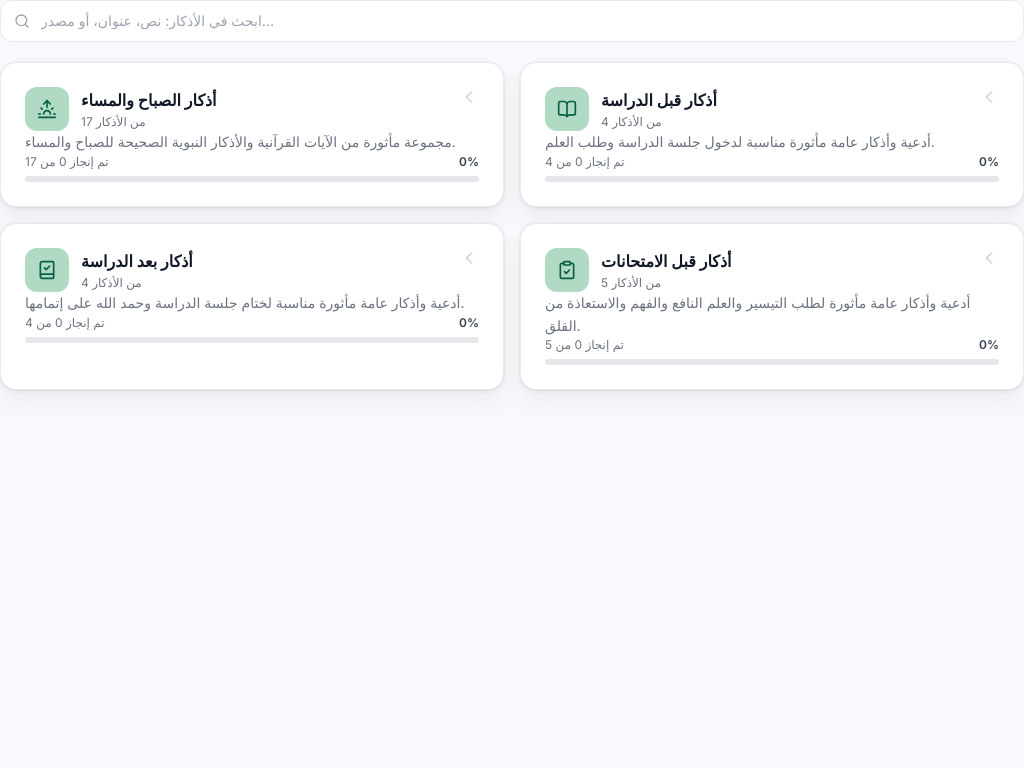
Test: AdhkarPage category view › renders every dhikr card directly without group headings (morning/evening)
Click the button "أذكار الصباح والمساء".
click(252, 134)  # box [0,62,504,207]
(page scrolled)
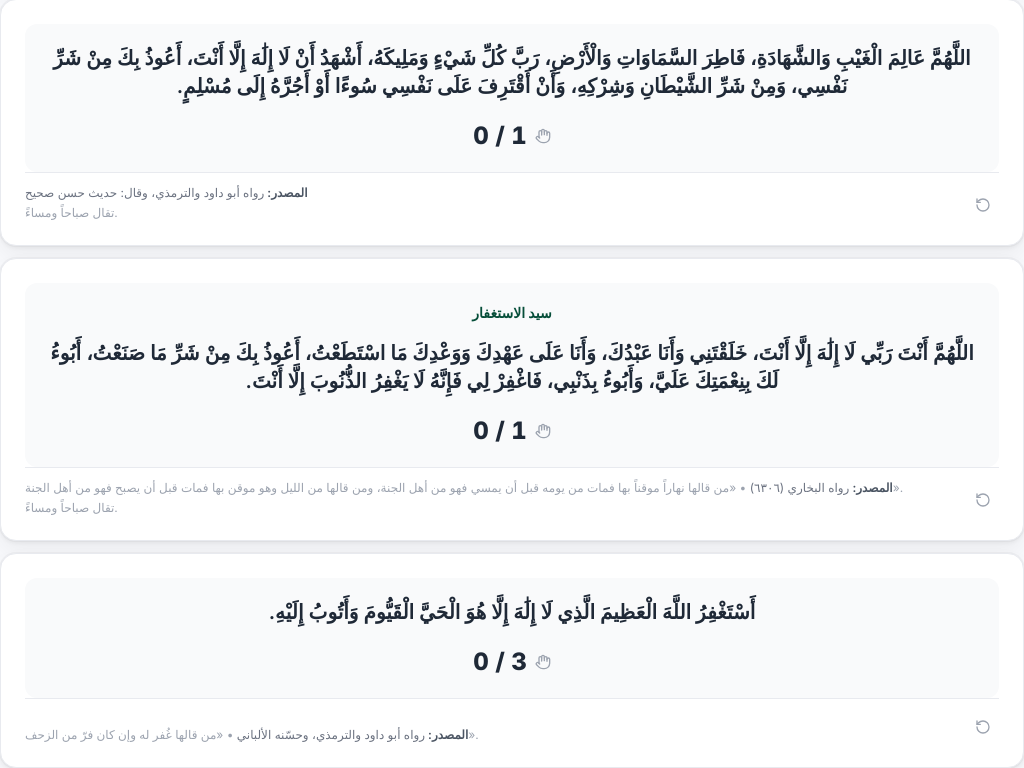
Now the element with test id "adhkar-me-sayyid-istighfar" is shown, box [0,258,1023,541]
